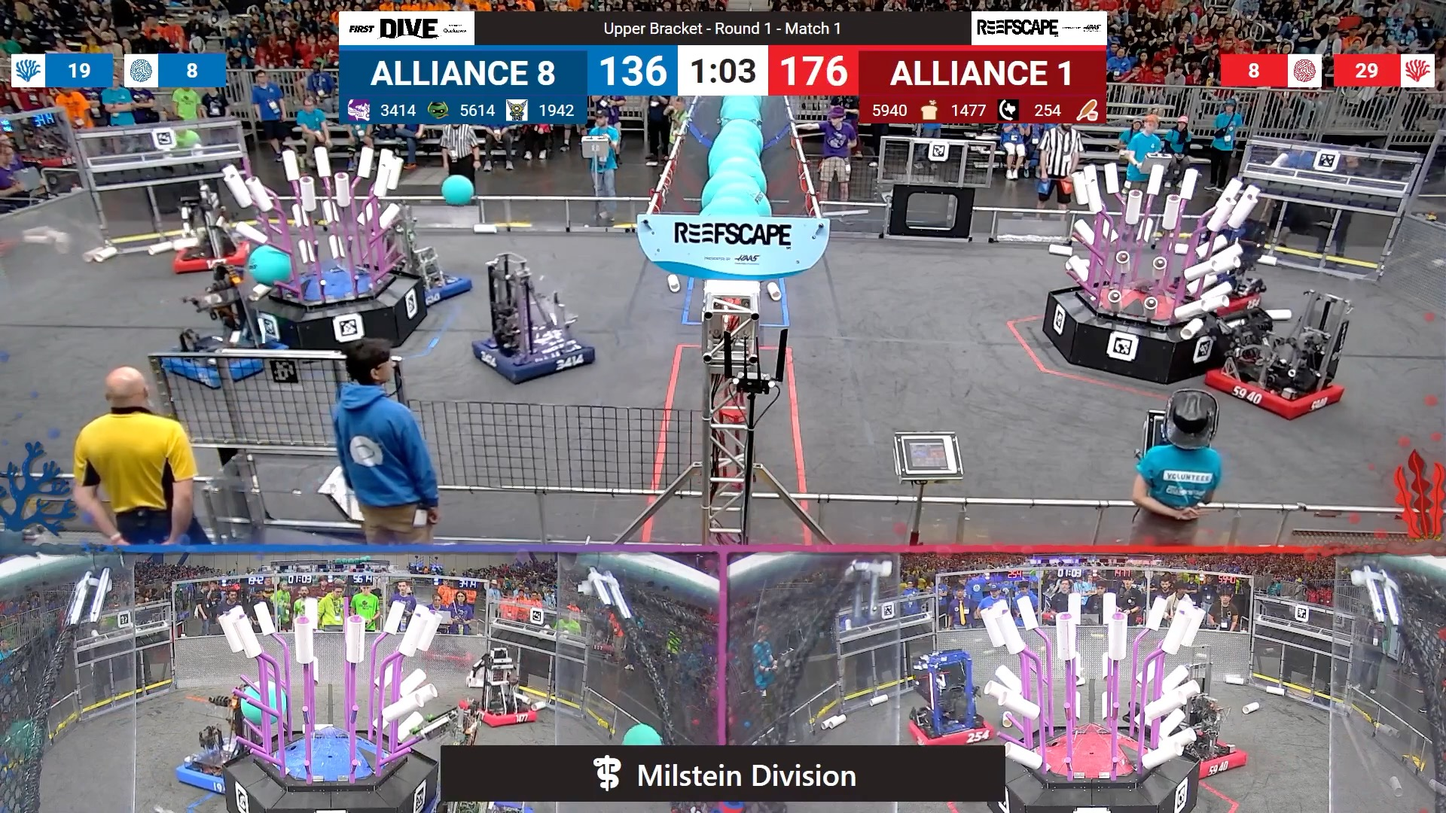bumpers: (1194, 355, 1352, 423), (467, 333, 607, 386), (152, 337, 286, 388), (1176, 732, 1256, 783), (388, 258, 478, 302), (168, 744, 244, 792), (165, 240, 259, 278), (905, 712, 999, 749), (453, 694, 544, 731)
